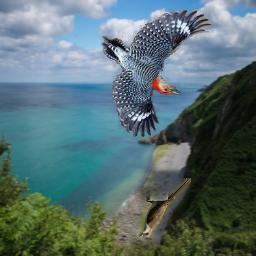Cuckoo: (139, 178, 191, 237)
Woodpecker: (101, 9, 212, 138)
